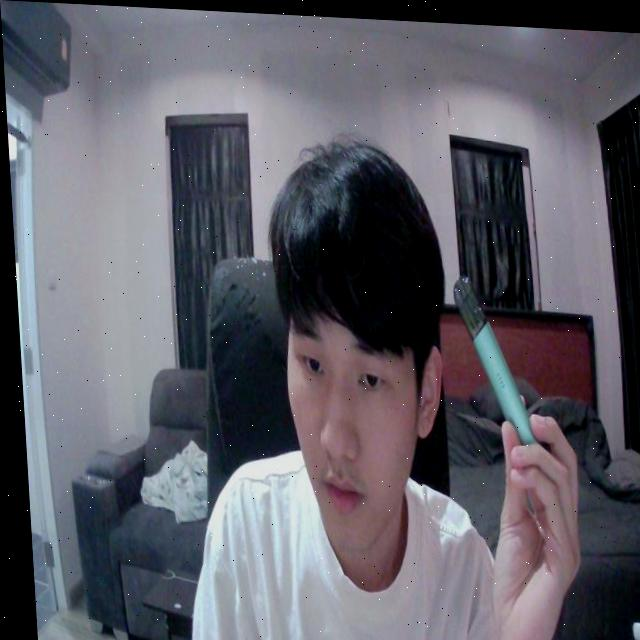vape: (451, 265, 533, 444)
